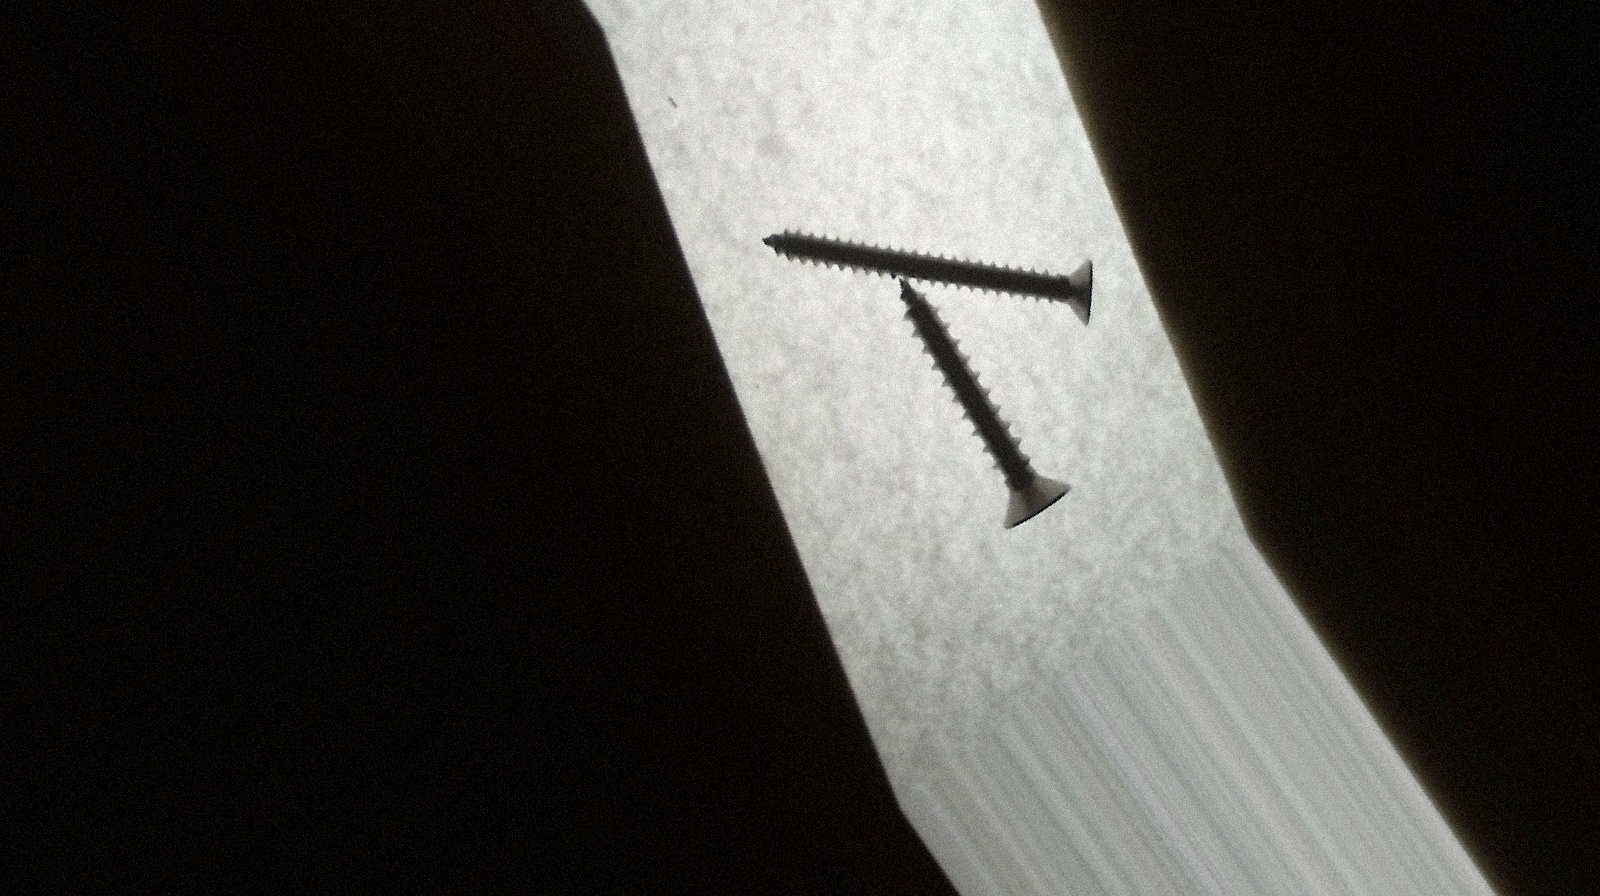S001: (857, 257, 1085, 542)
S002: (759, 75, 1121, 462)
